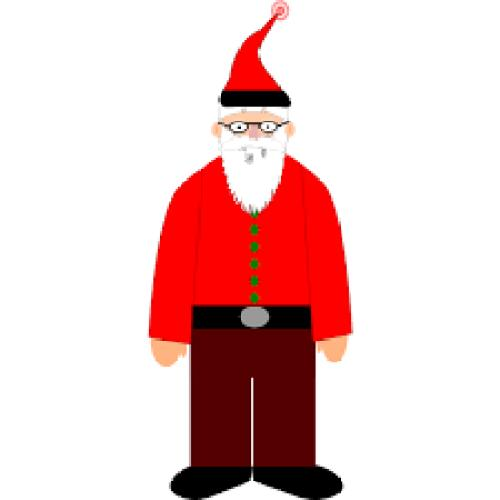Santa: (150, 0, 353, 500)
